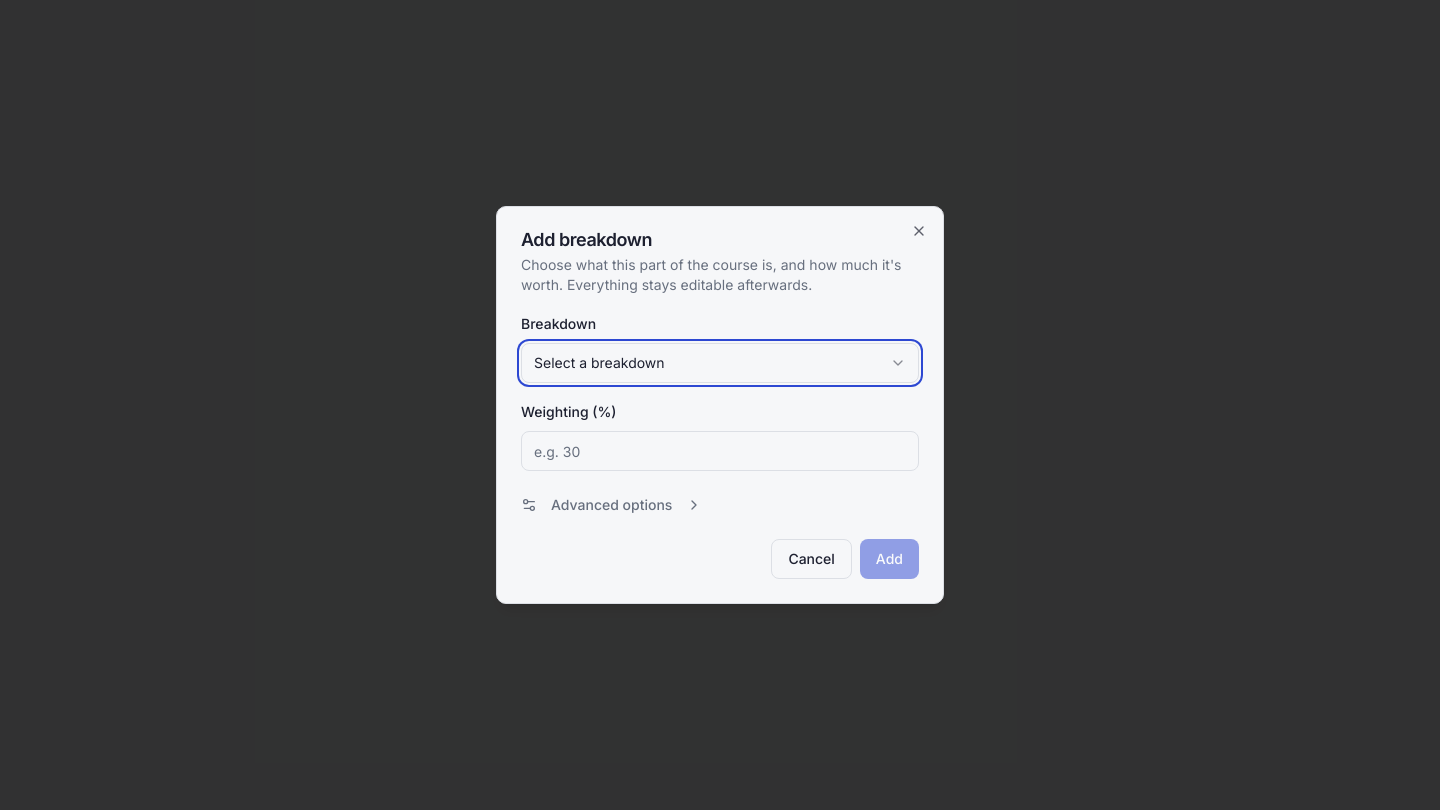
Test: AddBreakdownDialog › keeps advanced options collapsed until asked for
Check: the switch labelled "Drop lowest" is not shown
Step 1. Click the button "Advanced options" → [612, 505], box [521,487,702,523]
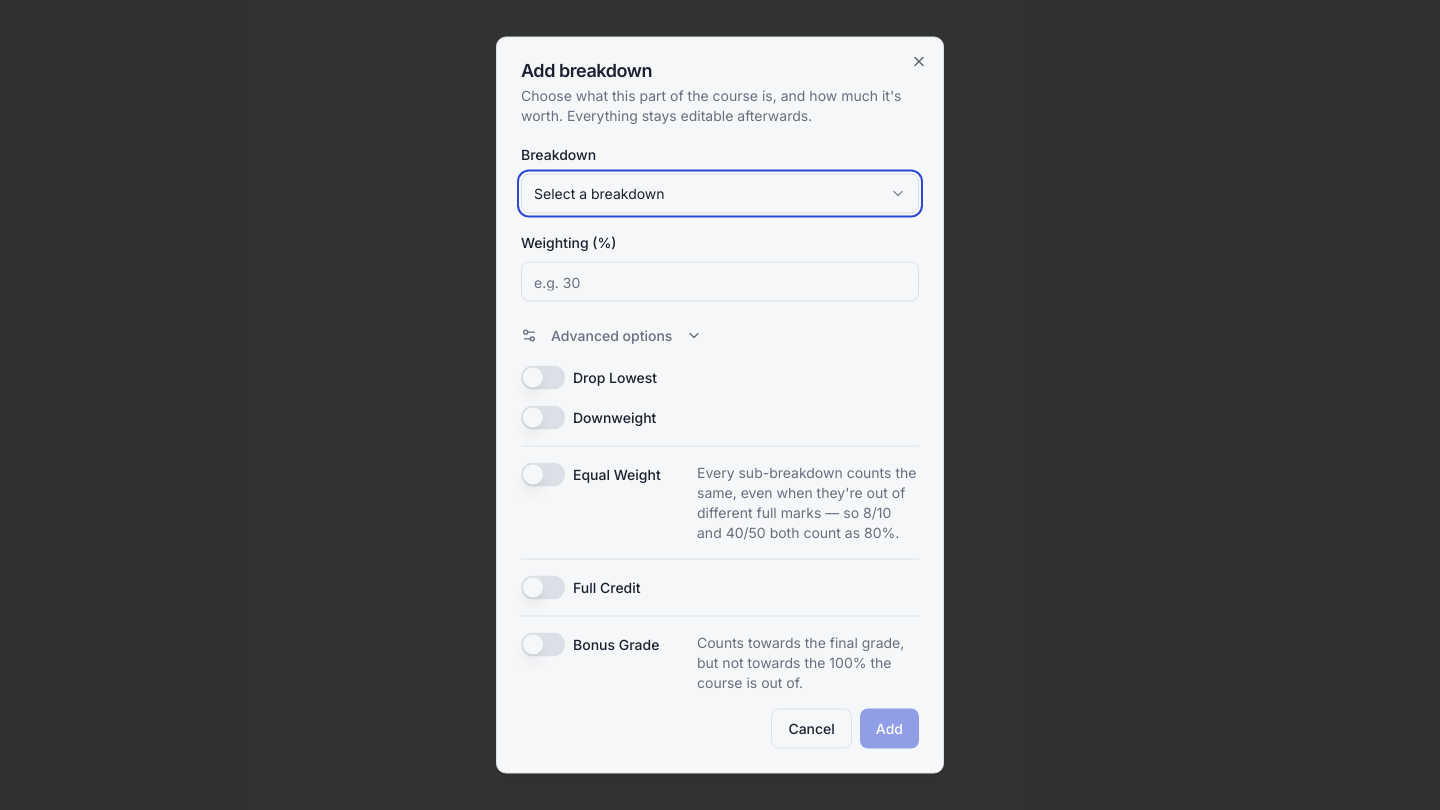
Check: the switch named "Drop lowest" is shown, box [521,366,565,390]
